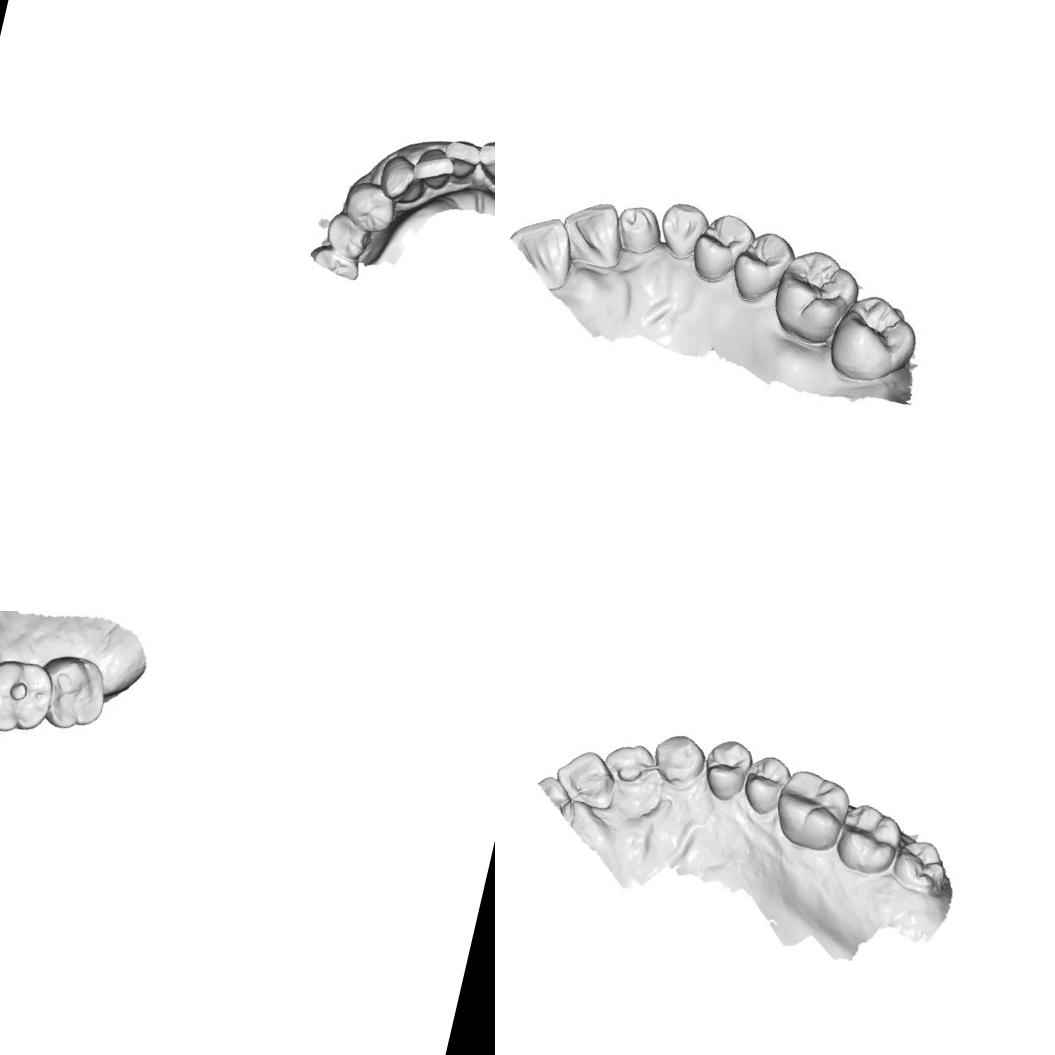canine: (653, 192, 712, 264), (650, 728, 716, 792), (374, 151, 429, 209)
incisor: (499, 204, 581, 292), (551, 190, 630, 272), (549, 743, 621, 813), (597, 734, 662, 794), (612, 197, 666, 260), (408, 142, 460, 194), (438, 135, 485, 184), (471, 136, 495, 188)
molar: (762, 238, 868, 352), (822, 286, 924, 393), (767, 765, 856, 858), (31, 648, 112, 739), (830, 798, 908, 882), (0, 651, 58, 740), (886, 832, 954, 900), (305, 241, 364, 281)
premolar: (725, 221, 802, 310), (684, 204, 761, 292), (696, 734, 758, 806), (739, 749, 796, 820), (338, 176, 401, 240), (320, 210, 376, 264)
